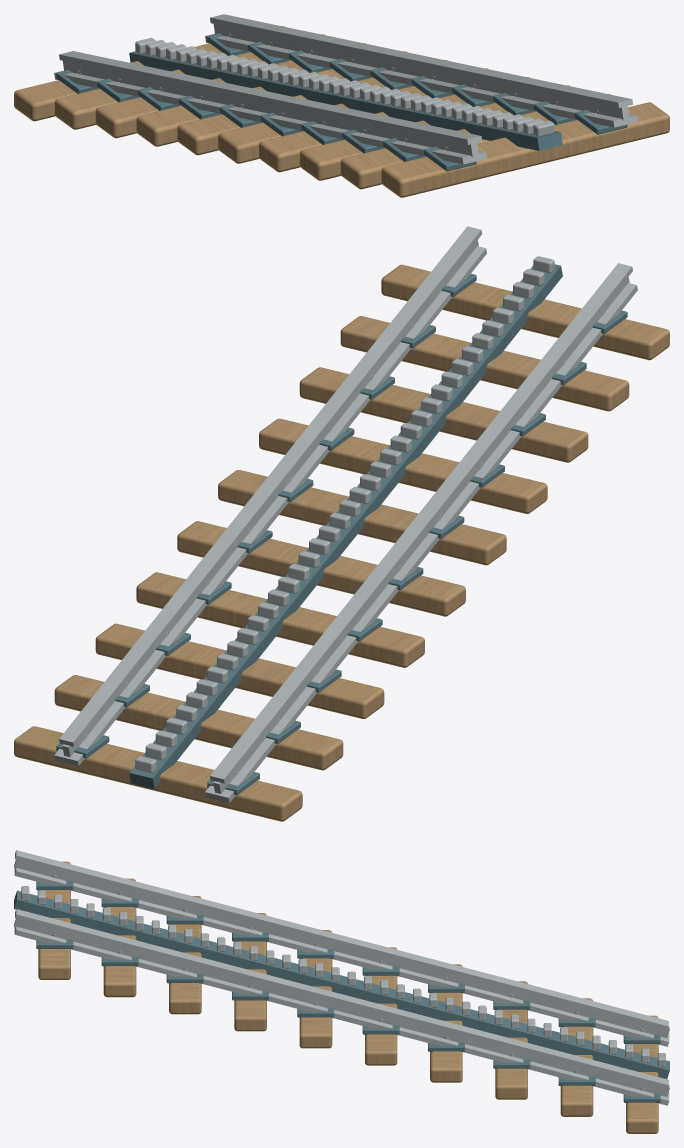
File: gorgehold-survivor-gallery-and-operations-inclined-rac-35c20735__32885.glb
3 views of the same model, one above another, from view 1: azimuth 30°, elevation 25°; view 2: azimuth 150°, elevation 25°; view 3: azimuth 270°, elevation 25° (orthographic). The views are drawn at different scales.
Parts seen in each view (by area): view 1: inclined-rack-rail; view 2: inclined-rack-rail; view 3: inclined-rack-rail.
Boxes of the visible parts, box(x1,y1,x2,y2) form: inclined-rack-rail: box(14, 14, 669, 197); inclined-rack-rail: box(14, 226, 669, 821); inclined-rack-rail: box(14, 850, 669, 1133).
Size of the model in its own units: 1.15 by 1.01 by 3.01.
3 materials, 3 textured.
